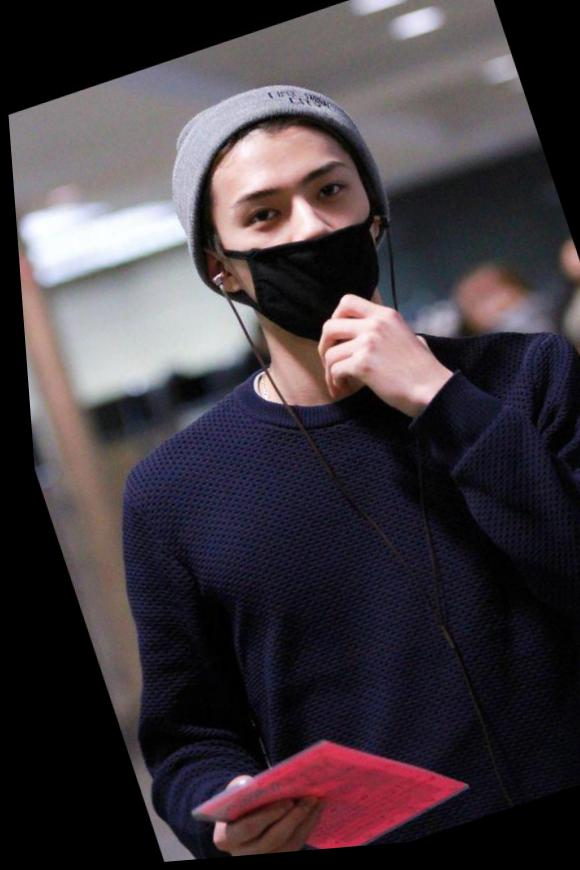WRONG: (200, 139, 408, 355)
